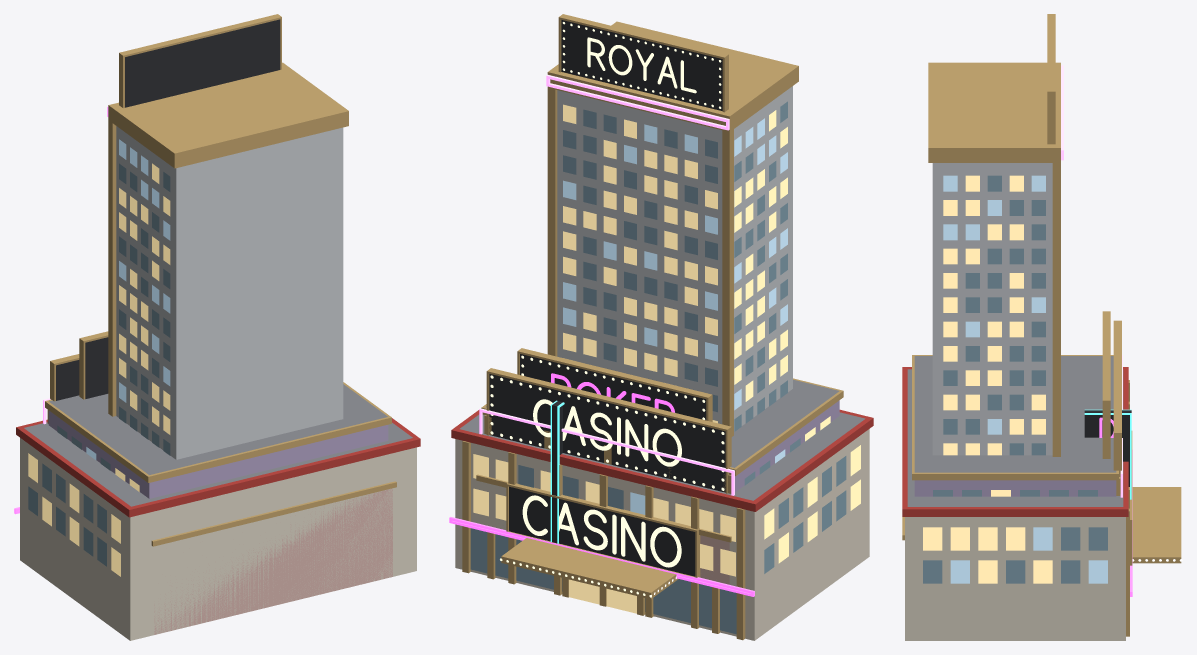
The model's file is vegas_buildings.glb.
3 views of the same model, side by side, from view 1: azimuth 30°, elevation 25°; view 2: azimuth 150°, elevation 25°; view 3: azimuth 270°, elevation 25° (orthographic). The views are drawn at different scales.
Visible parts, largest first — view 1: vegas_casino_b, vegas_casino_a, vegas_casino_c; view 2: vegas_casino_b, vegas_casino_a, vegas_casino_c, vegas_club_b; view 3: vegas_casino_b, vegas_casino_a, vegas_casino_c, vegas_club_b.
Boxes of the visible parts, x1,y1,x2,y2 form: vegas_casino_b: [107, 14, 396, 634]; vegas_casino_a: [14, 354, 420, 640]; vegas_casino_c: [43, 331, 391, 498]; vegas_casino_b: [476, 14, 798, 633]; vegas_casino_a: [449, 368, 873, 640]; vegas_casino_c: [479, 348, 843, 582]; vegas_club_b: [550, 400, 564, 543]; vegas_casino_b: [902, 14, 1174, 565]; vegas_casino_a: [902, 320, 1182, 640]; vegas_casino_c: [912, 311, 1157, 554]; vegas_club_b: [1084, 409, 1131, 499].
Size of the model in its own units: 2.44 by 4.14 by 2.03.
